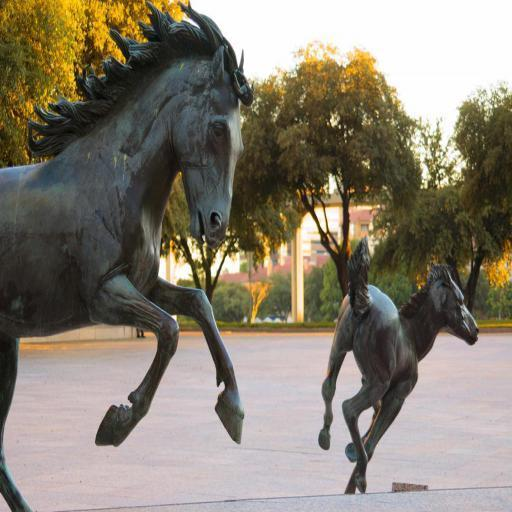horse: (0, 0, 257, 511), (318, 234, 480, 498)
